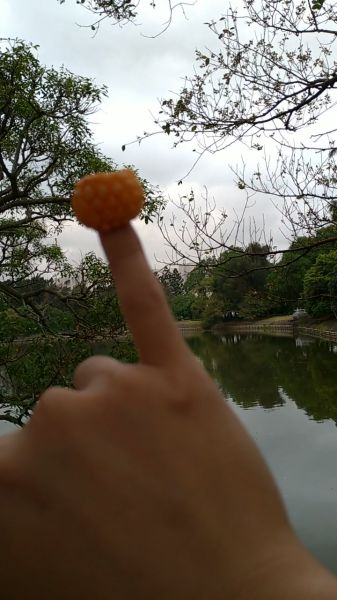eggs: (71, 169, 147, 233)
